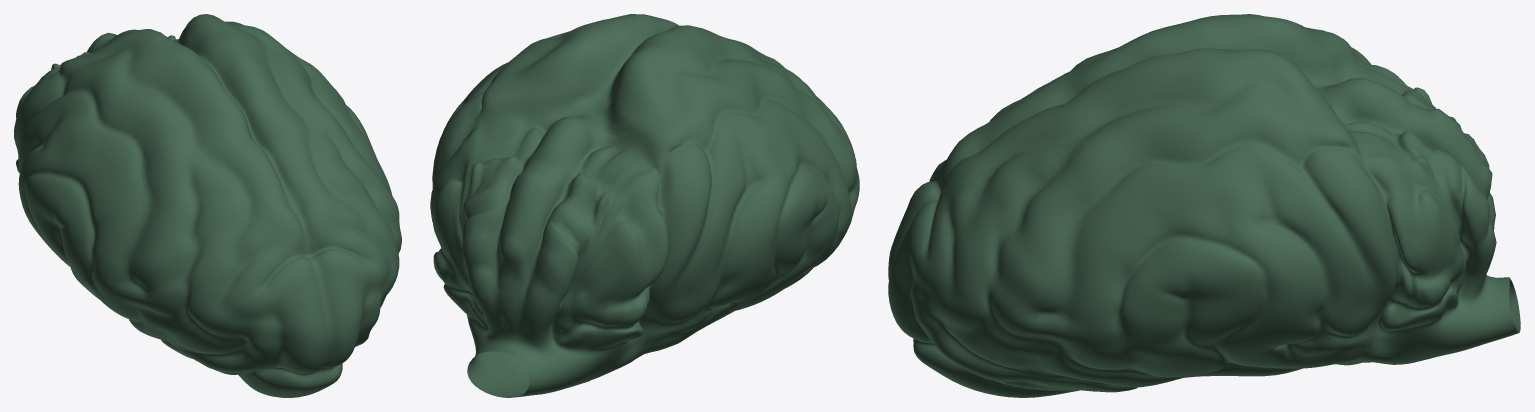
The model's file is Brain.fbx.
3 views of the same model, side by side, from view 1: azimuth 30°, elevation 25°; view 2: azimuth 150°, elevation 25°; view 3: azimuth 270°, elevation 25° (orthographic). The views are drawn at different scales.
Visible parts, largest first — view 1: Brain; view 2: Brain; view 3: Brain.
Boxes of the visible parts, x1,y1,x2,y2 form: Brain: [14, 14, 401, 397]; Brain: [430, 14, 859, 397]; Brain: [888, 14, 1520, 397].
Size of the model in its own units: 4.28 by 3.76 by 6.1.
